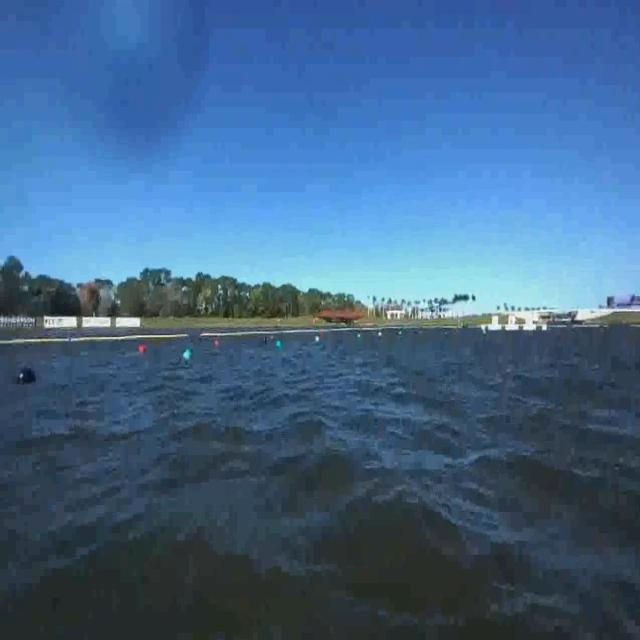black-buoy: (18, 369, 38, 386)
green-buoy: (182, 340, 195, 370), (276, 341, 284, 351)
red-buoy: (139, 344, 147, 354)
